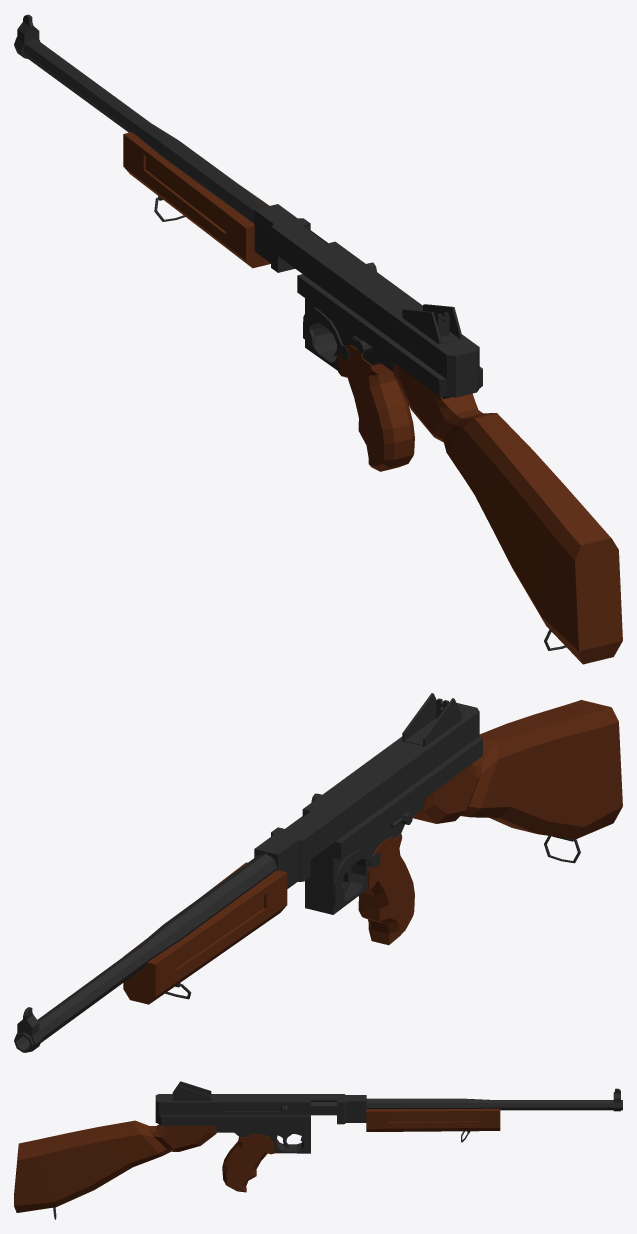
The model's file is gun.glb.
The picture shows the model from 3 angles, top to bottom: view 1: azimuth 30°, elevation 25°; view 2: azimuth 150°, elevation 25°; view 3: azimuth 270°, elevation 25°; orthographic projection. The views are drawn at different scales.
Visible parts, largest first — view 1: thompson-m1-gun; view 2: thompson-m1-gun; view 3: thompson-m1-gun.
Part boxes in pixels (x1,y1,x2,y2): thompson-m1-gun: [14, 14, 622, 664]; thompson-m1-gun: [14, 693, 622, 1052]; thompson-m1-gun: [14, 1081, 622, 1219].
Bounding box in the file's own units: 0.0464 × 0.2059 × 0.8555.
